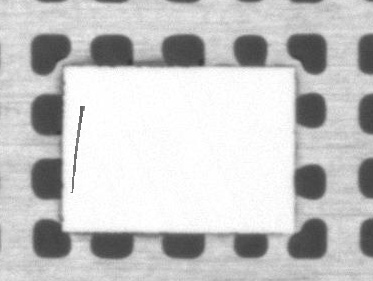DIE_INK: (93, 80, 113, 145)
